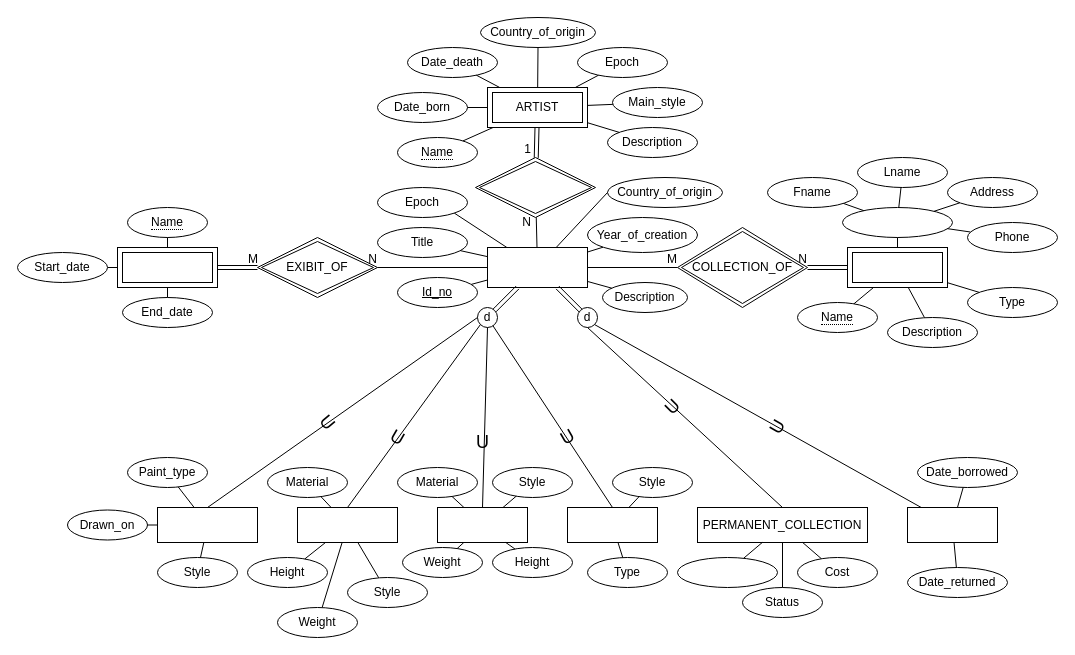
Image size: 1075x655. Some labels were removed from this diagram. Here are the shapes that lost their labels. From the top down, the centre of each, then its label:
At point (535, 187): "CREATED_BY".
At point (897, 222): "Contact_person".
At point (167, 267): "EXHIBITIONS".
At point (537, 267): "ART_OBJECTS".
At point (897, 267): "COLLECTIONS".
At point (207, 524): "PAINTING".
At point (347, 524): "SCULPTURE".
At point (482, 524): "STATUE".
At point (612, 524): "OTHER".
At point (952, 524): "BORROWED".
At point (727, 572): "Date_acquired".
